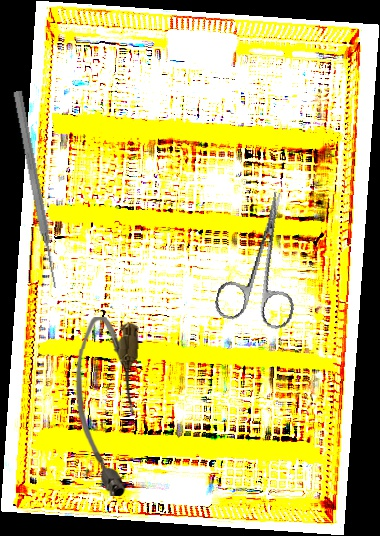Cannula: (72, 316, 140, 497)
Iris Scissors: (212, 183, 319, 333)
Pusher: (10, 90, 62, 289)
